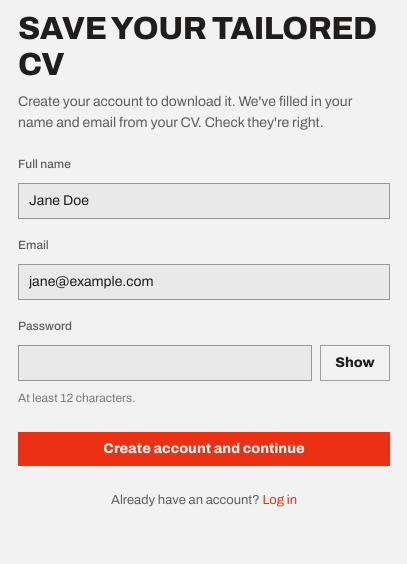
Test: TrialSignupPage (/try/signup) › rejects a password shorter than 12 characters
expect the field labelled "Full name" holds "Jane Doe": met, box [18, 183, 390, 219]
In the password field labelled "Password": [165, 363] box [18, 345, 312, 381], type "short"
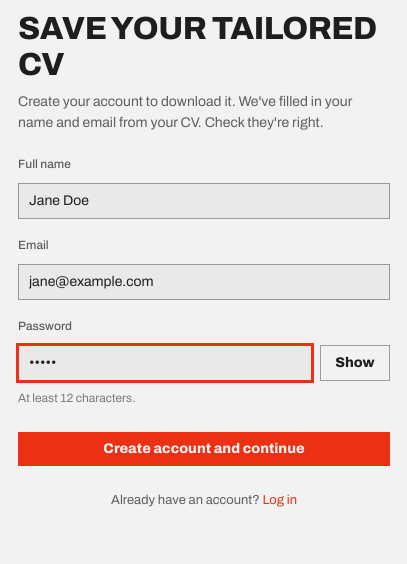
Click the button "Create account and continue": [204, 449] box [18, 432, 390, 466]
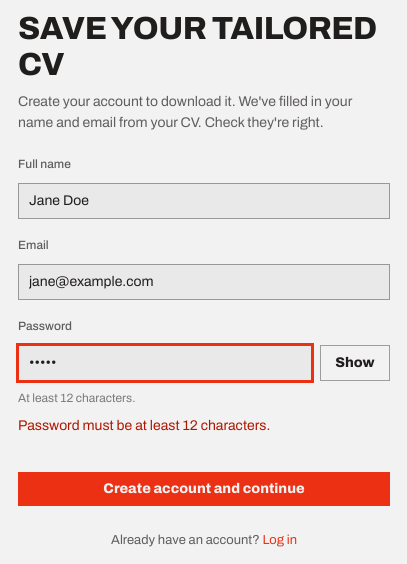
expect the text "Password must be at least 12 characters." is shown: met, box [18, 418, 270, 433]
